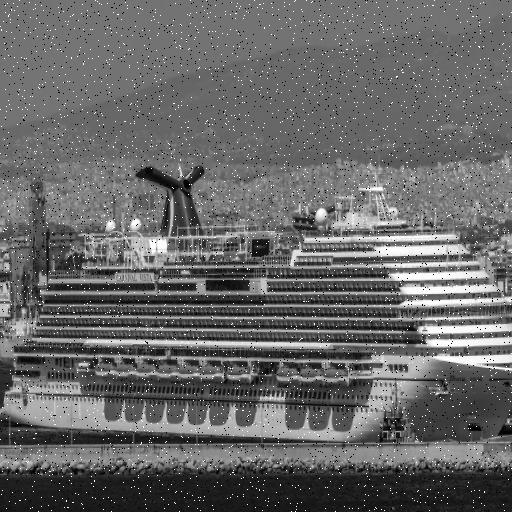cruises: (1, 159, 512, 451)
